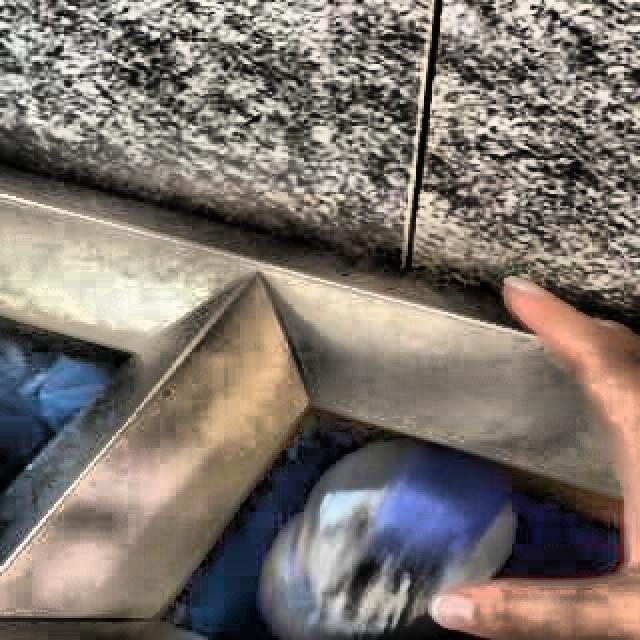plastic: (261, 442, 515, 640)
